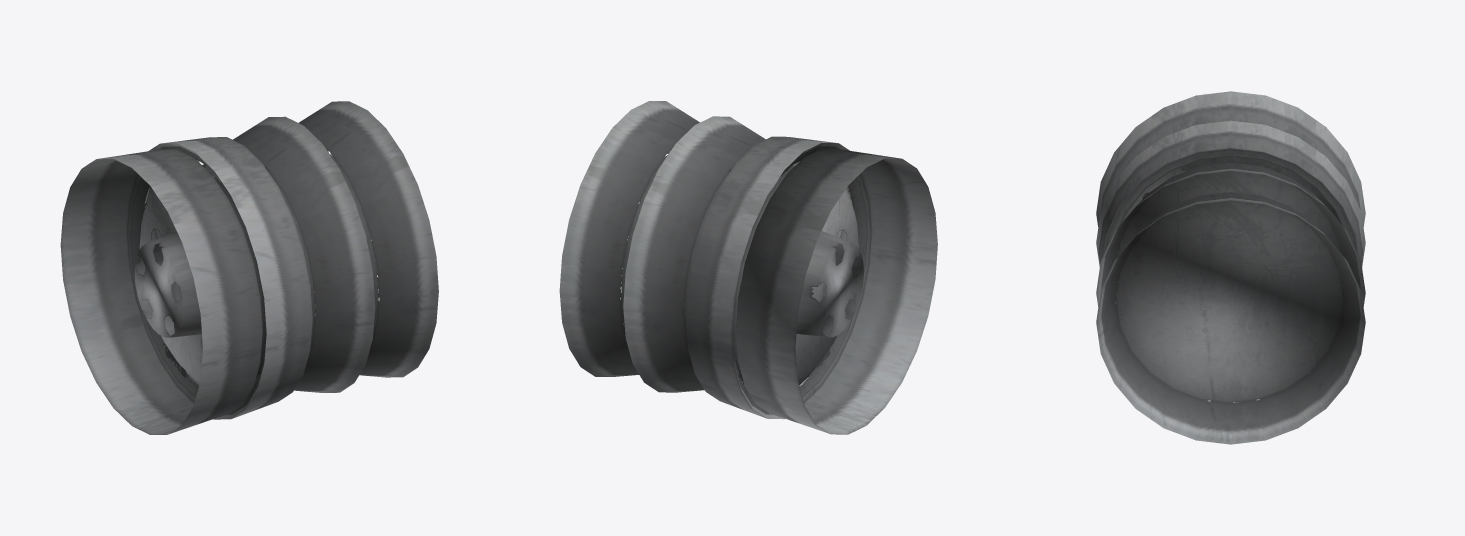
File: reifen.fbx
3 views of the same model, side by side, from view 1: azimuth 30°, elevation 25°; view 2: azimuth 150°, elevation 25°; view 3: azimuth 270°, elevation 25° (orthographic). The views are drawn at different scales.
Visible parts, largest first — view 1: reifen_05_doppelt, reifen_01, reifen_05; view 2: reifen_05_doppelt, reifen_01, reifen_05; view 3: reifen_05_doppelt, reifen_05, reifen_01.
Part boxes in pixels (x1,y1,x2,y2): reifen_05_doppelt: (60, 101, 438, 434); reifen_01: (131, 116, 375, 419); reifen_05: (144, 137, 312, 418); reifen_05_doppelt: (559, 101, 937, 434); reifen_01: (623, 116, 867, 419); reifen_05: (686, 136, 837, 418); reifen_05_doppelt: (1096, 91, 1365, 444); reifen_05: (1096, 120, 1365, 267); reifen_01: (1096, 156, 1365, 402).
Bounding box in the file's own units: 39.21 × 61.89 × 61.89.
